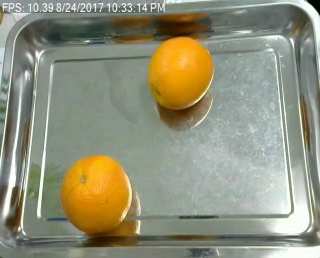Orange: (60, 154, 133, 232), (147, 37, 213, 109)
